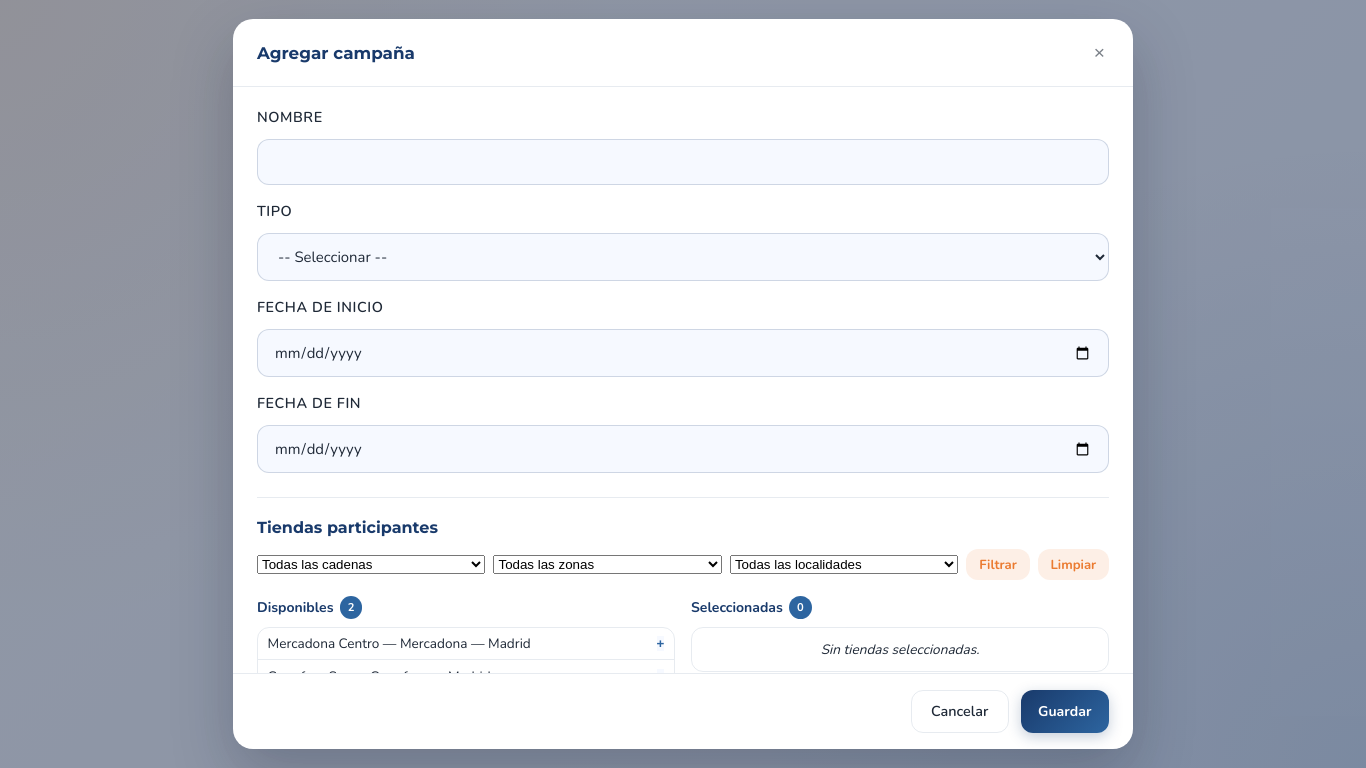
Test: CampaignModal (panel dual de tiendas) › el botón + mueve una tienda de disponibles a seleccionadas
The width and height of the screenshot is (1366, 768).
Click the button "+" at (660, 643), box x1=657 y1=636 x2=664 y2=651
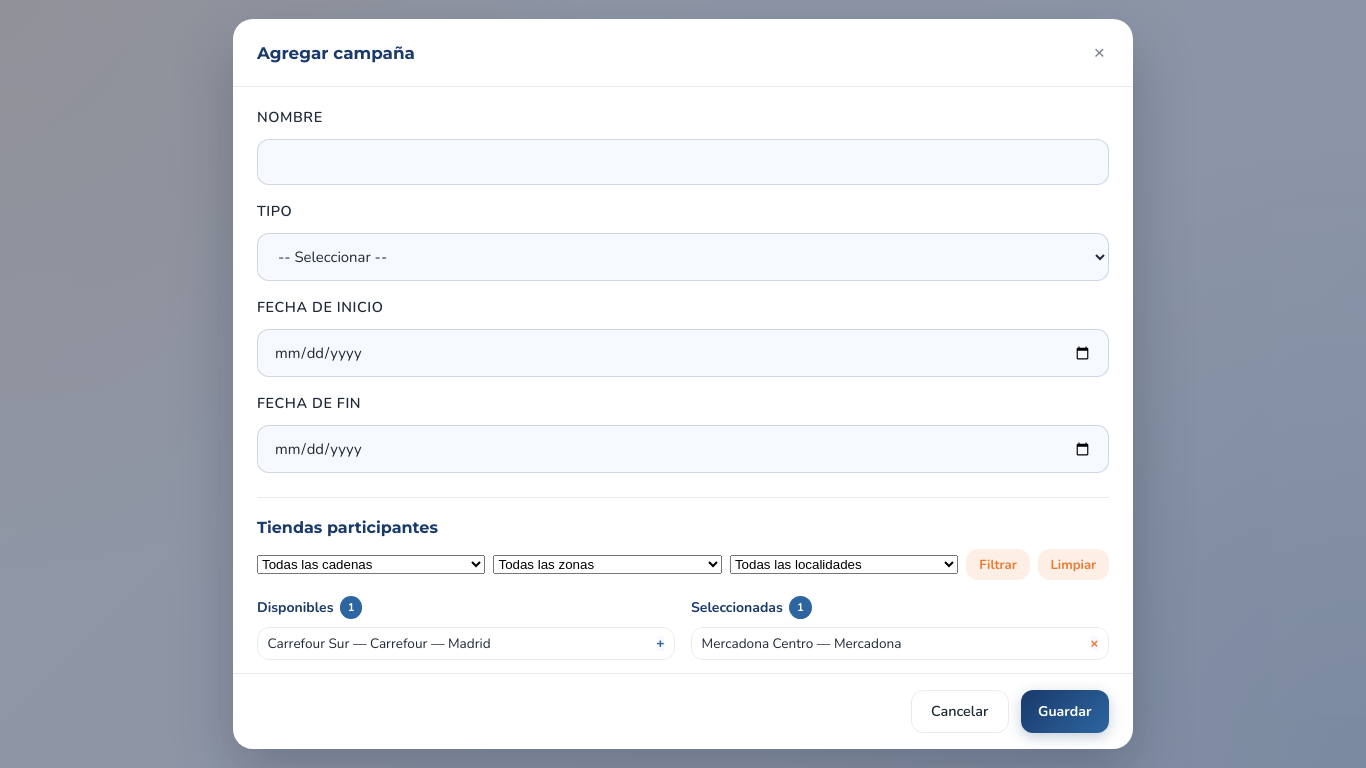
Expected: the number of buttons "+" is 1, x1=657 y1=636 x2=664 y2=651
Expected: the button "×" in the row of "Mercadona Centro" is shown, x1=1091 y1=636 x2=1098 y2=651
